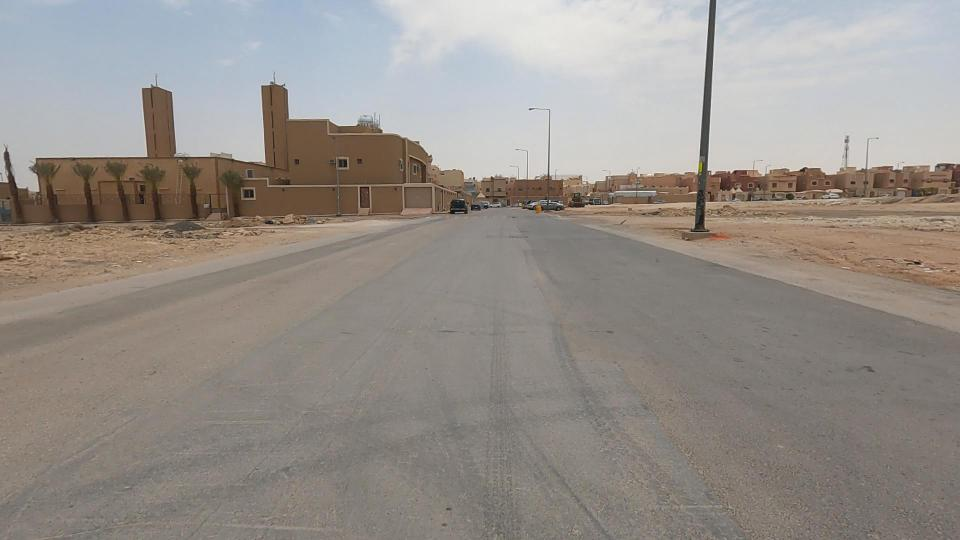GARBAGE: (253, 192, 359, 251)
